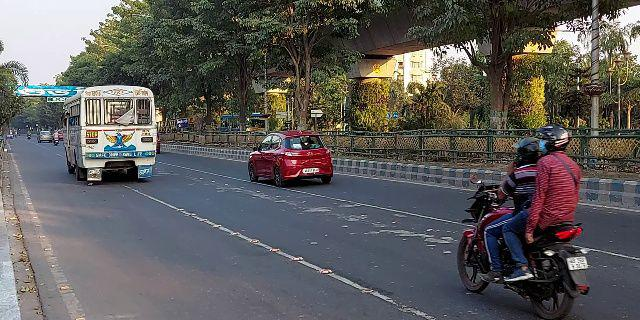Bus: (60, 83, 161, 188)
Car: (245, 130, 335, 188)
Motorbike: (454, 122, 594, 320)
